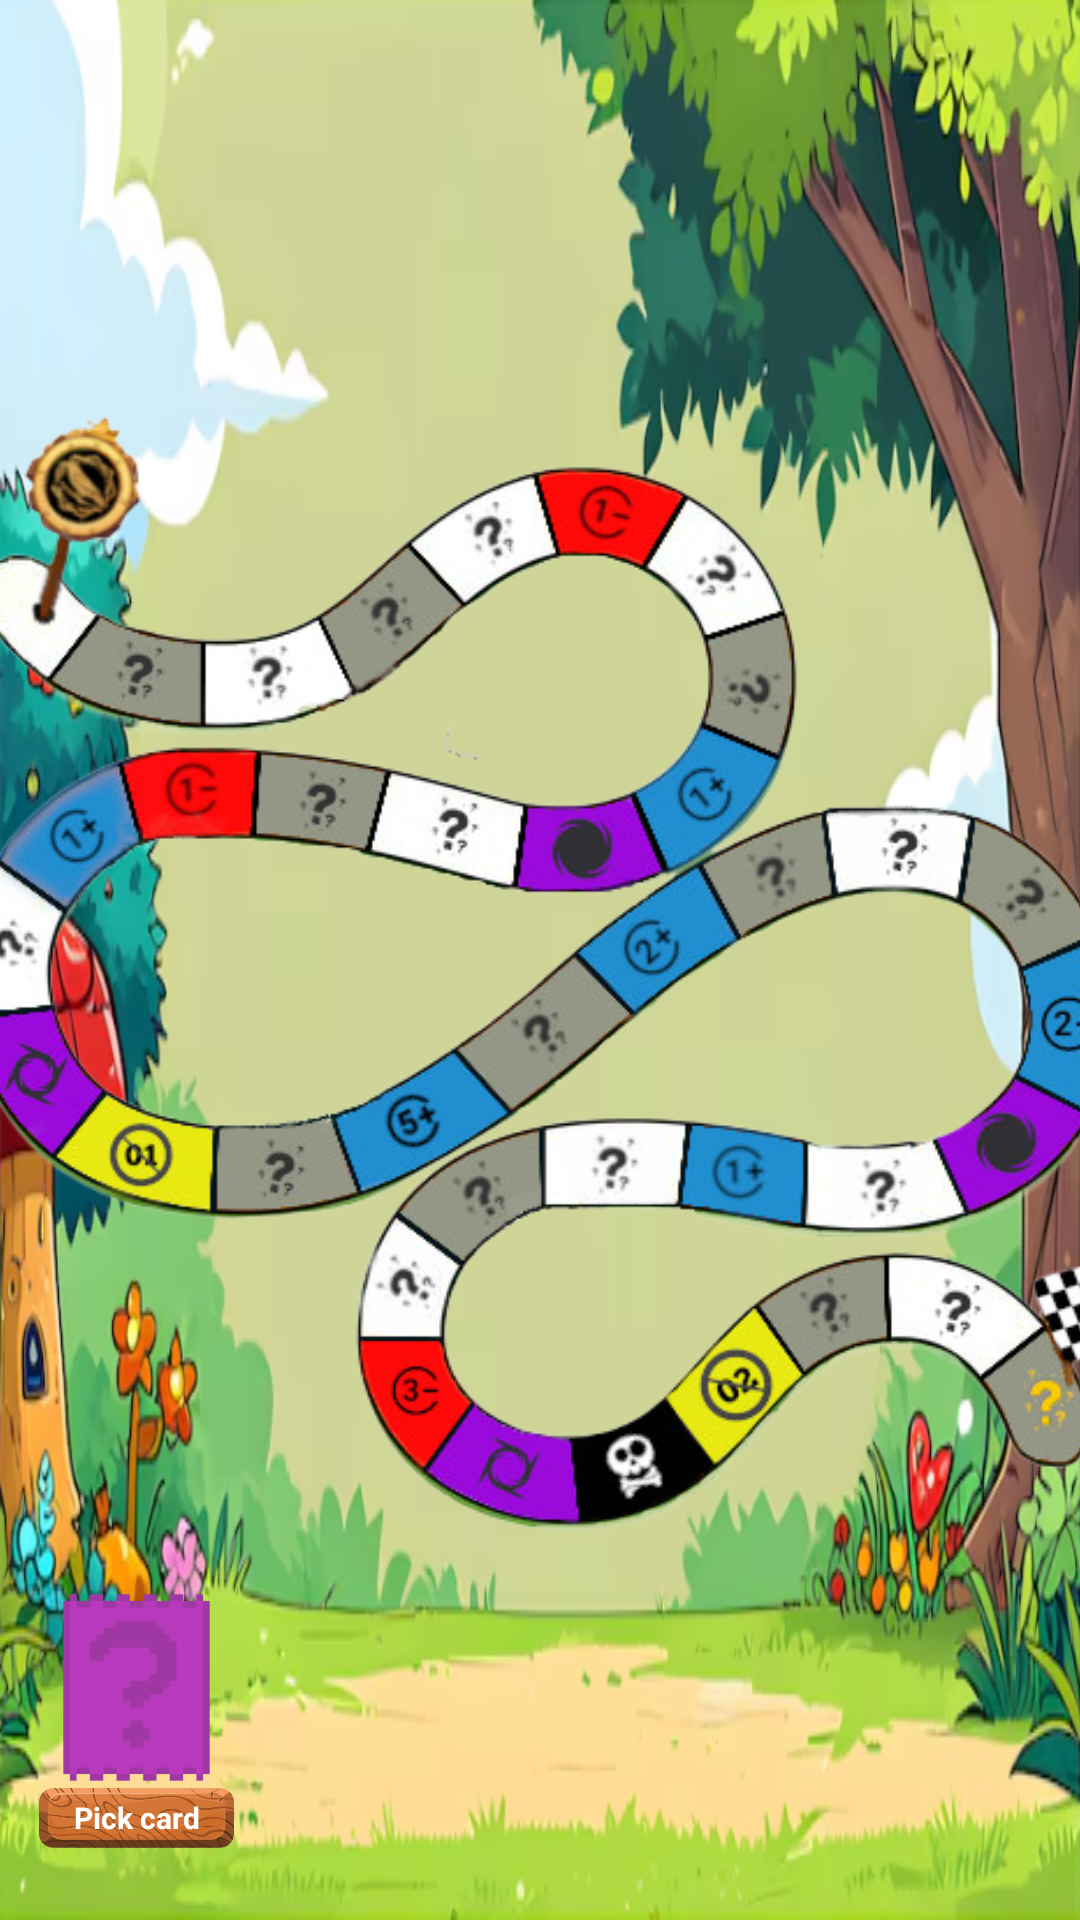

Icon click points for this 1080px x 1920px phone screenshot, format point (x, y):
boton: point (136, 1818)
